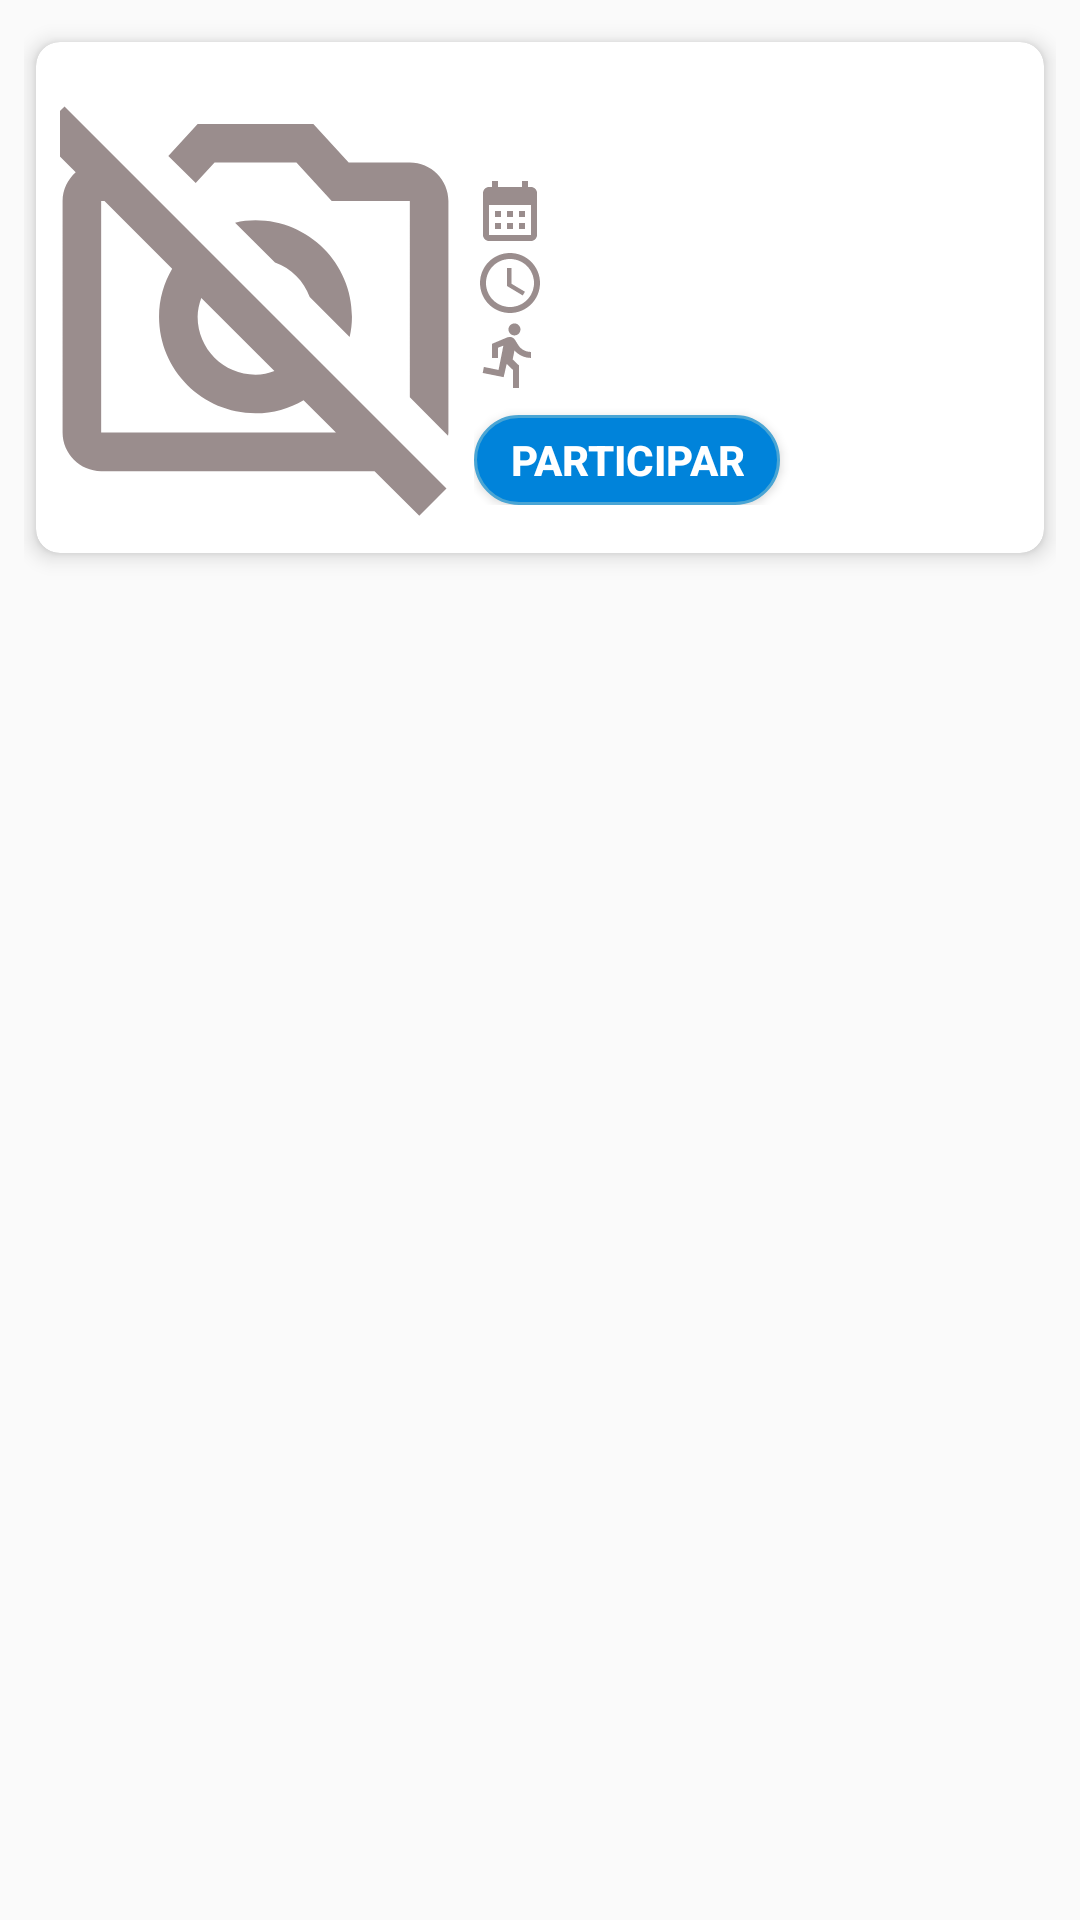

Where icons sit on this 1080w x 1920h app screen, as [x1, y1, x2, y2]:
access time: [480, 253, 540, 313]
calendar month: [483, 181, 537, 241]
directions run: [482, 323, 531, 388]
